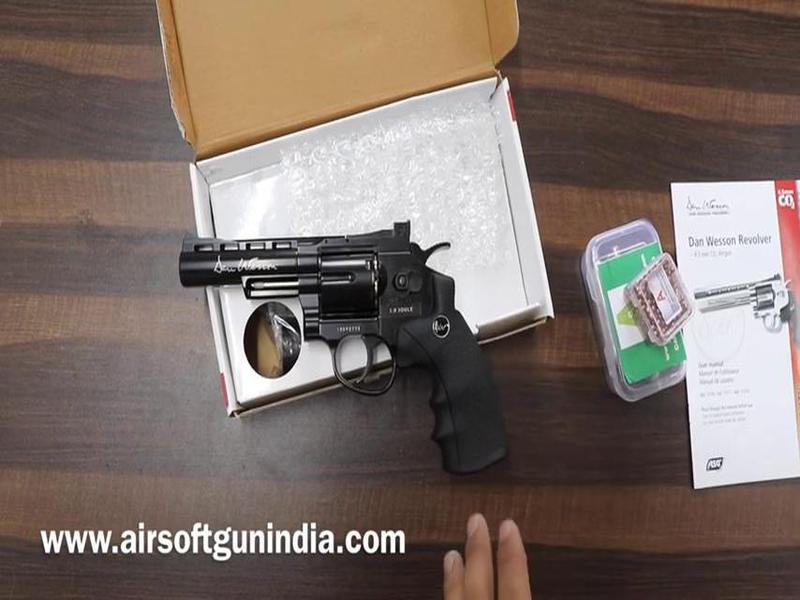Revolver: (177, 215, 506, 432)
